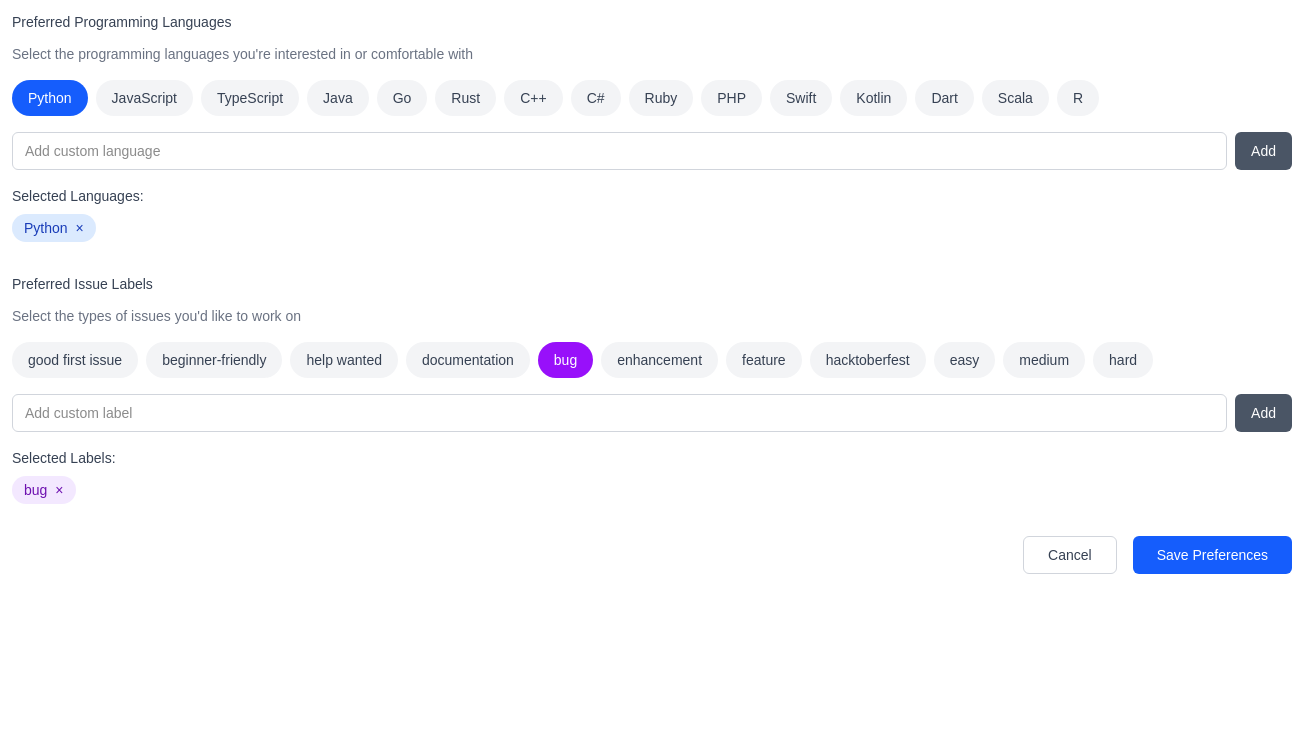
it: PreferencesForm › submits form successfully
Click the button "Save Preferences".
click(1212, 555)  # box x1=1133 y1=536 x2=1292 y2=574
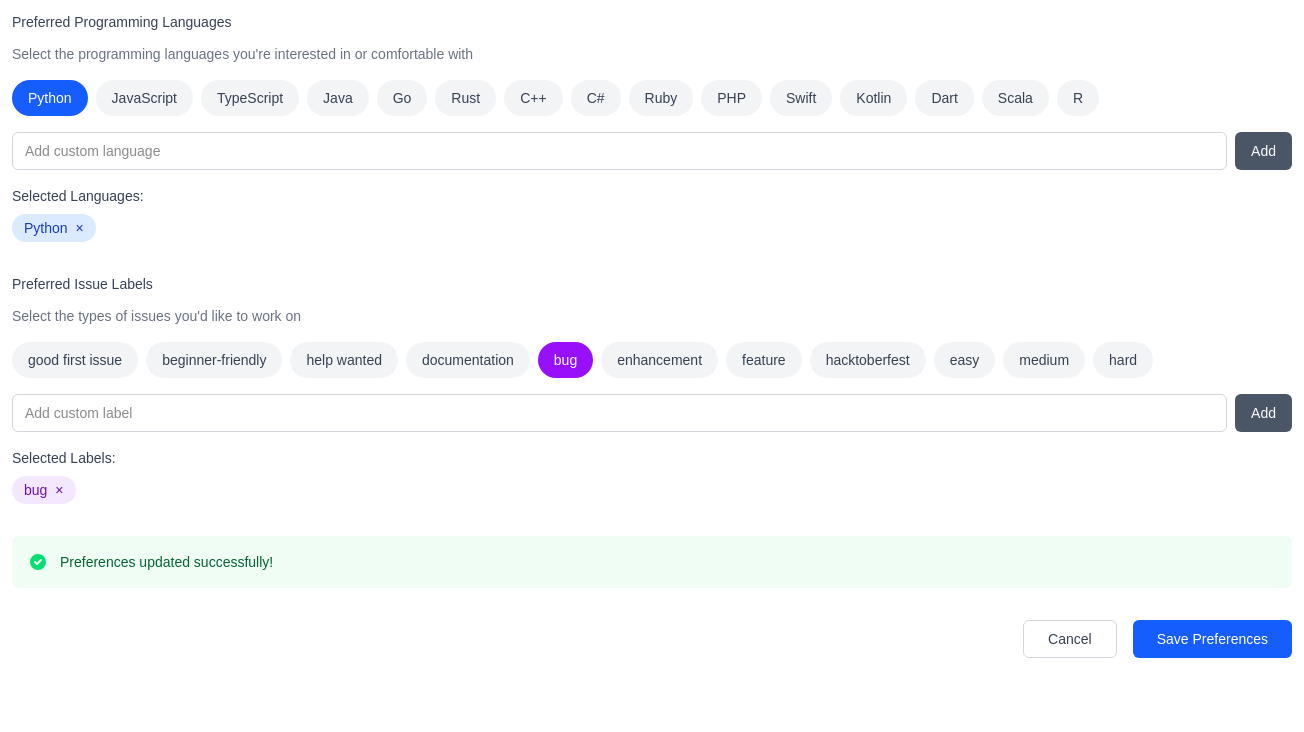
Expected: the text "Preferences updated successfully!" is shown, x1=60 y1=552 x2=273 y2=572
